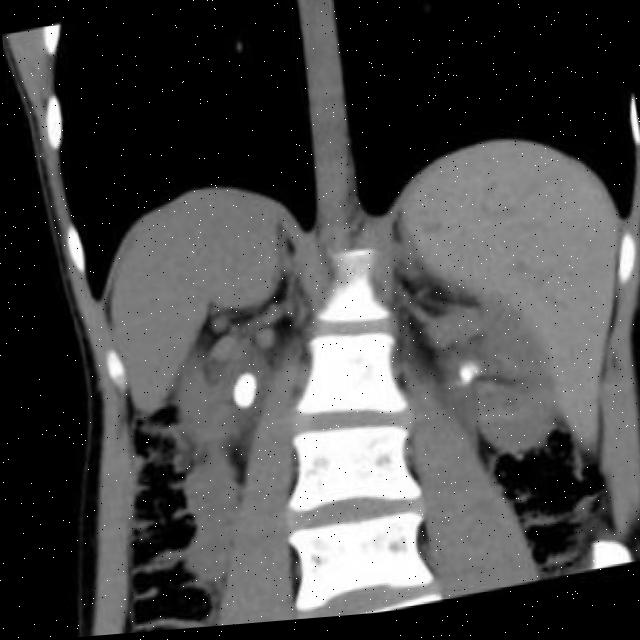Tas_Var: (215, 371, 261, 420), (452, 373, 471, 395)
